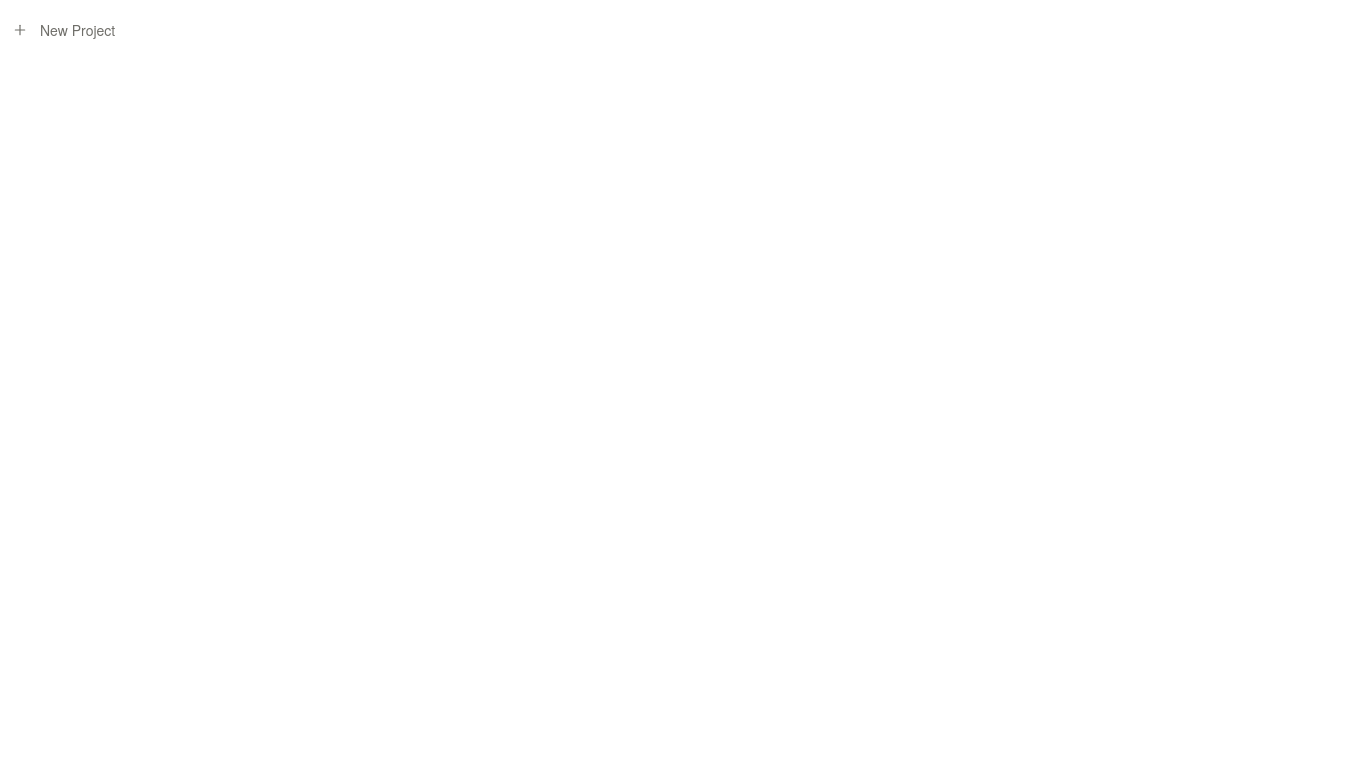
Test: CreateProjectDialog › reveals the workspace input when Advanced Settings is expanded
The width and height of the screenshot is (1366, 768).
Click the button "New Project" at {"x": 78, "y": 30}, box [0,12,1365,48]
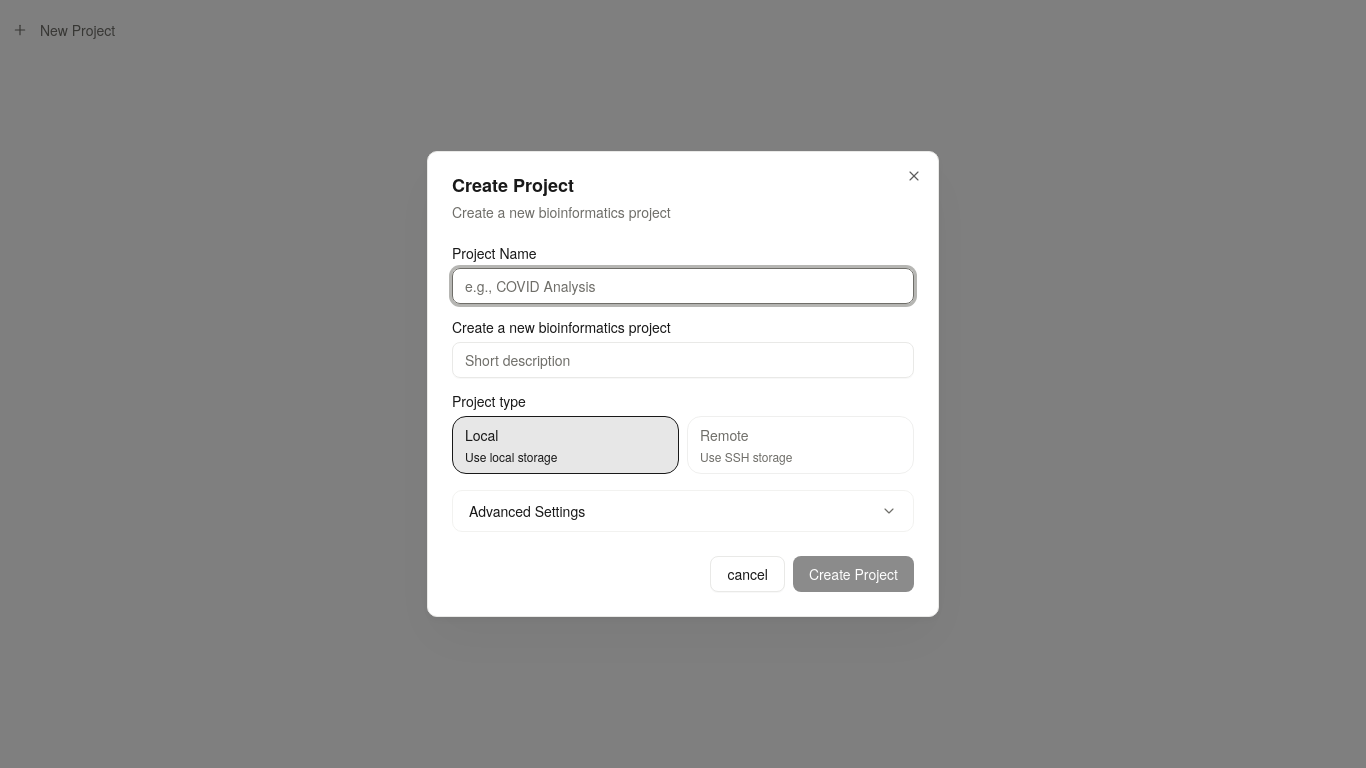
Type "My Project" into the field labelled "Project Name" at {"x": 683, "y": 286}, box [452,268,914,304]
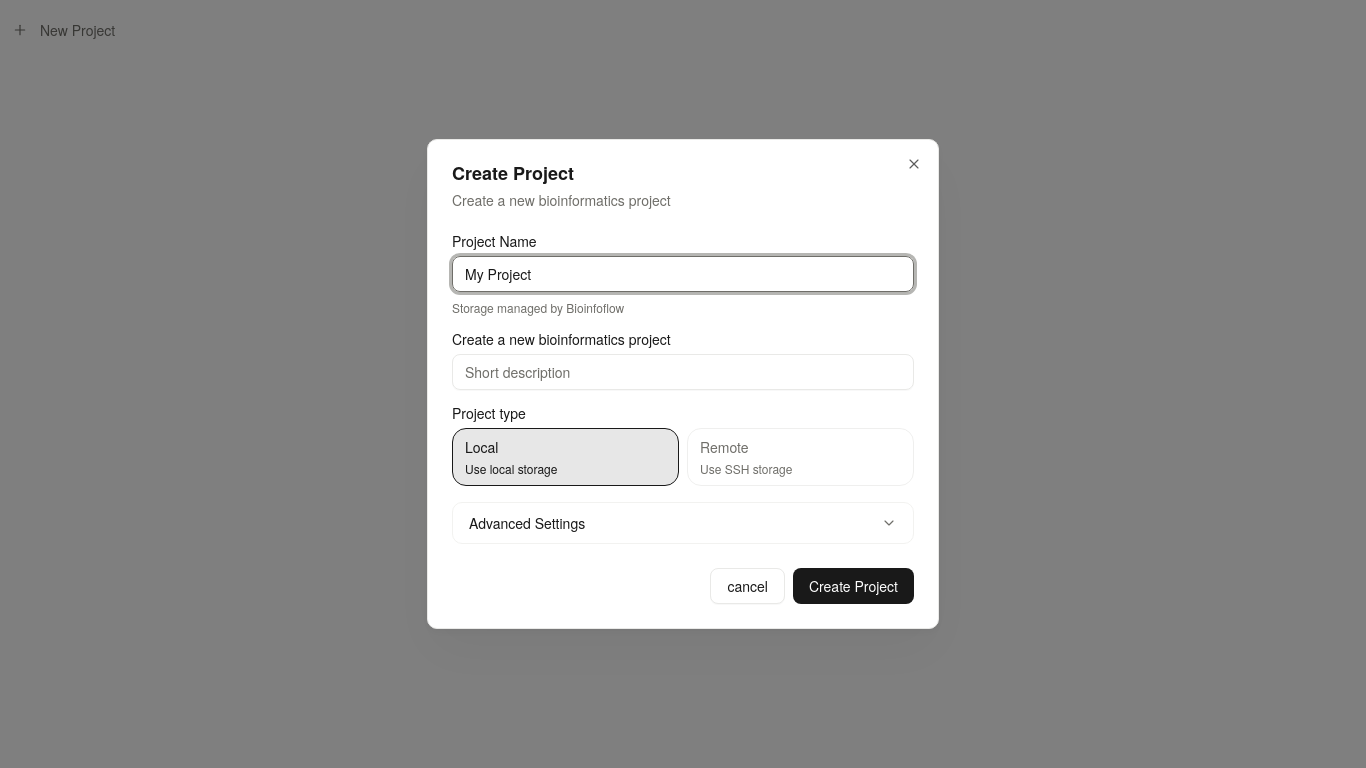
Click the button "Advanced Settings" at {"x": 527, "y": 523}, box [453,503,913,543]
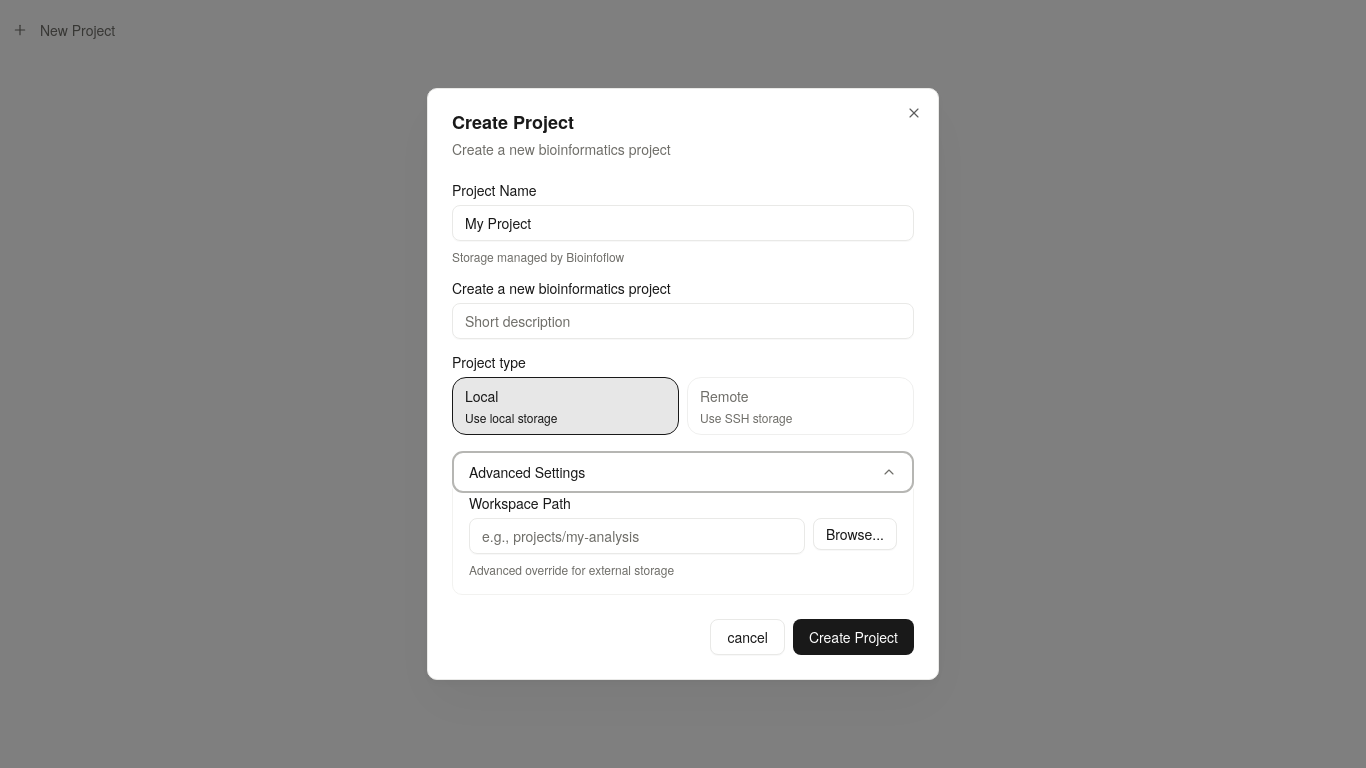
Result: the field labelled "Workspace Path" is empty at [469,518,805,554]
